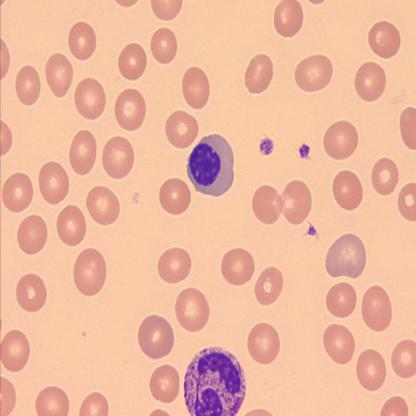NRC: (186, 133, 236, 198)
